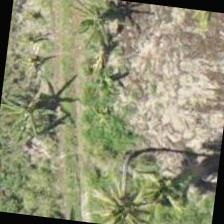Kelapa_Sawit: (78, 105, 178, 204)
